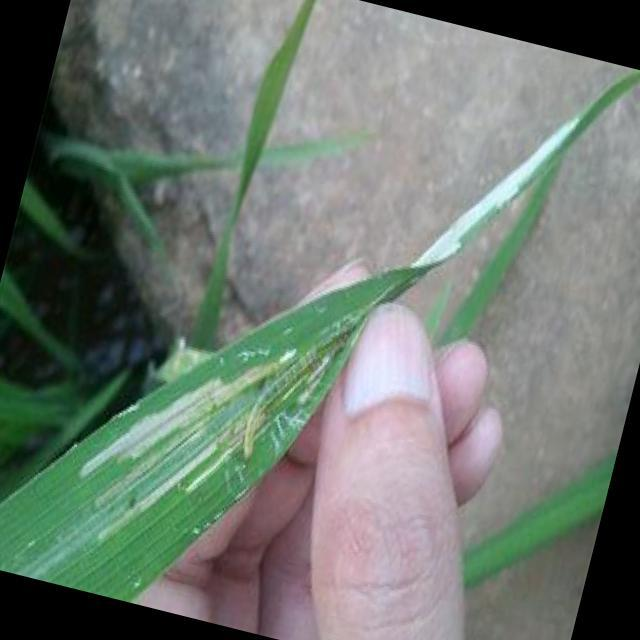leaf folder: (245, 351, 329, 443)
